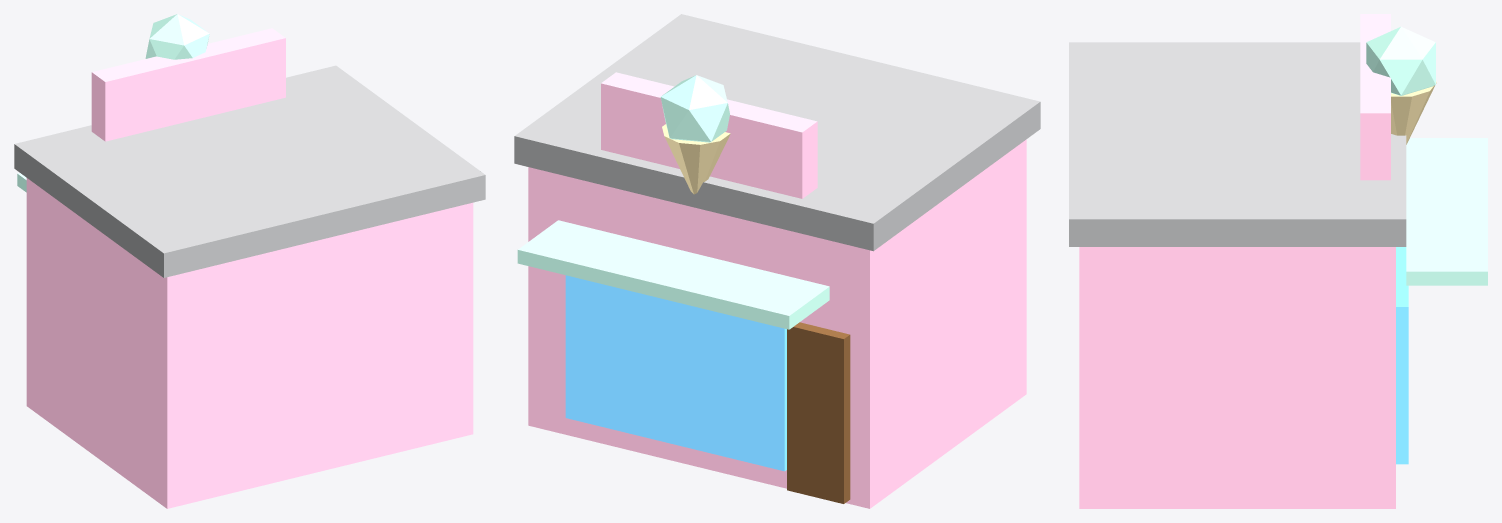
Rendered from icecream.glb.
3 views of the same model, side by side, from view 1: azimuth 30°, elevation 25°; view 2: azimuth 150°, elevation 25°; view 3: azimuth 270°, elevation 25° (orthographic). The views are drawn at different scales.
Parts seen in each view (by area): view 1: icecream; view 2: icecream; view 3: icecream.
Part boxes in pixels (bbox=[...]): icecream: bbox=[14, 14, 485, 508]; icecream: bbox=[514, 14, 1040, 508]; icecream: bbox=[1069, 14, 1487, 508].
Size of the model in its own units: 0.82 by 0.86 by 0.82.
